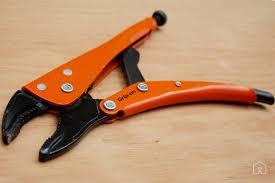pliers: (0, 8, 274, 161)
